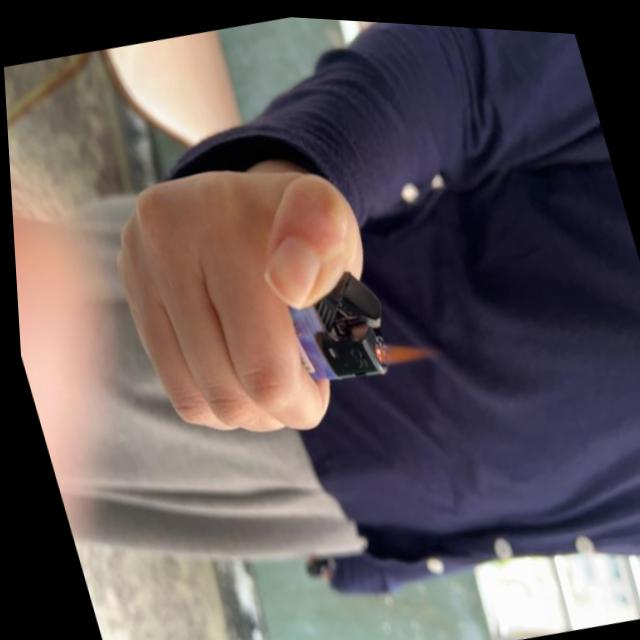Fire: (368, 320, 435, 366)
